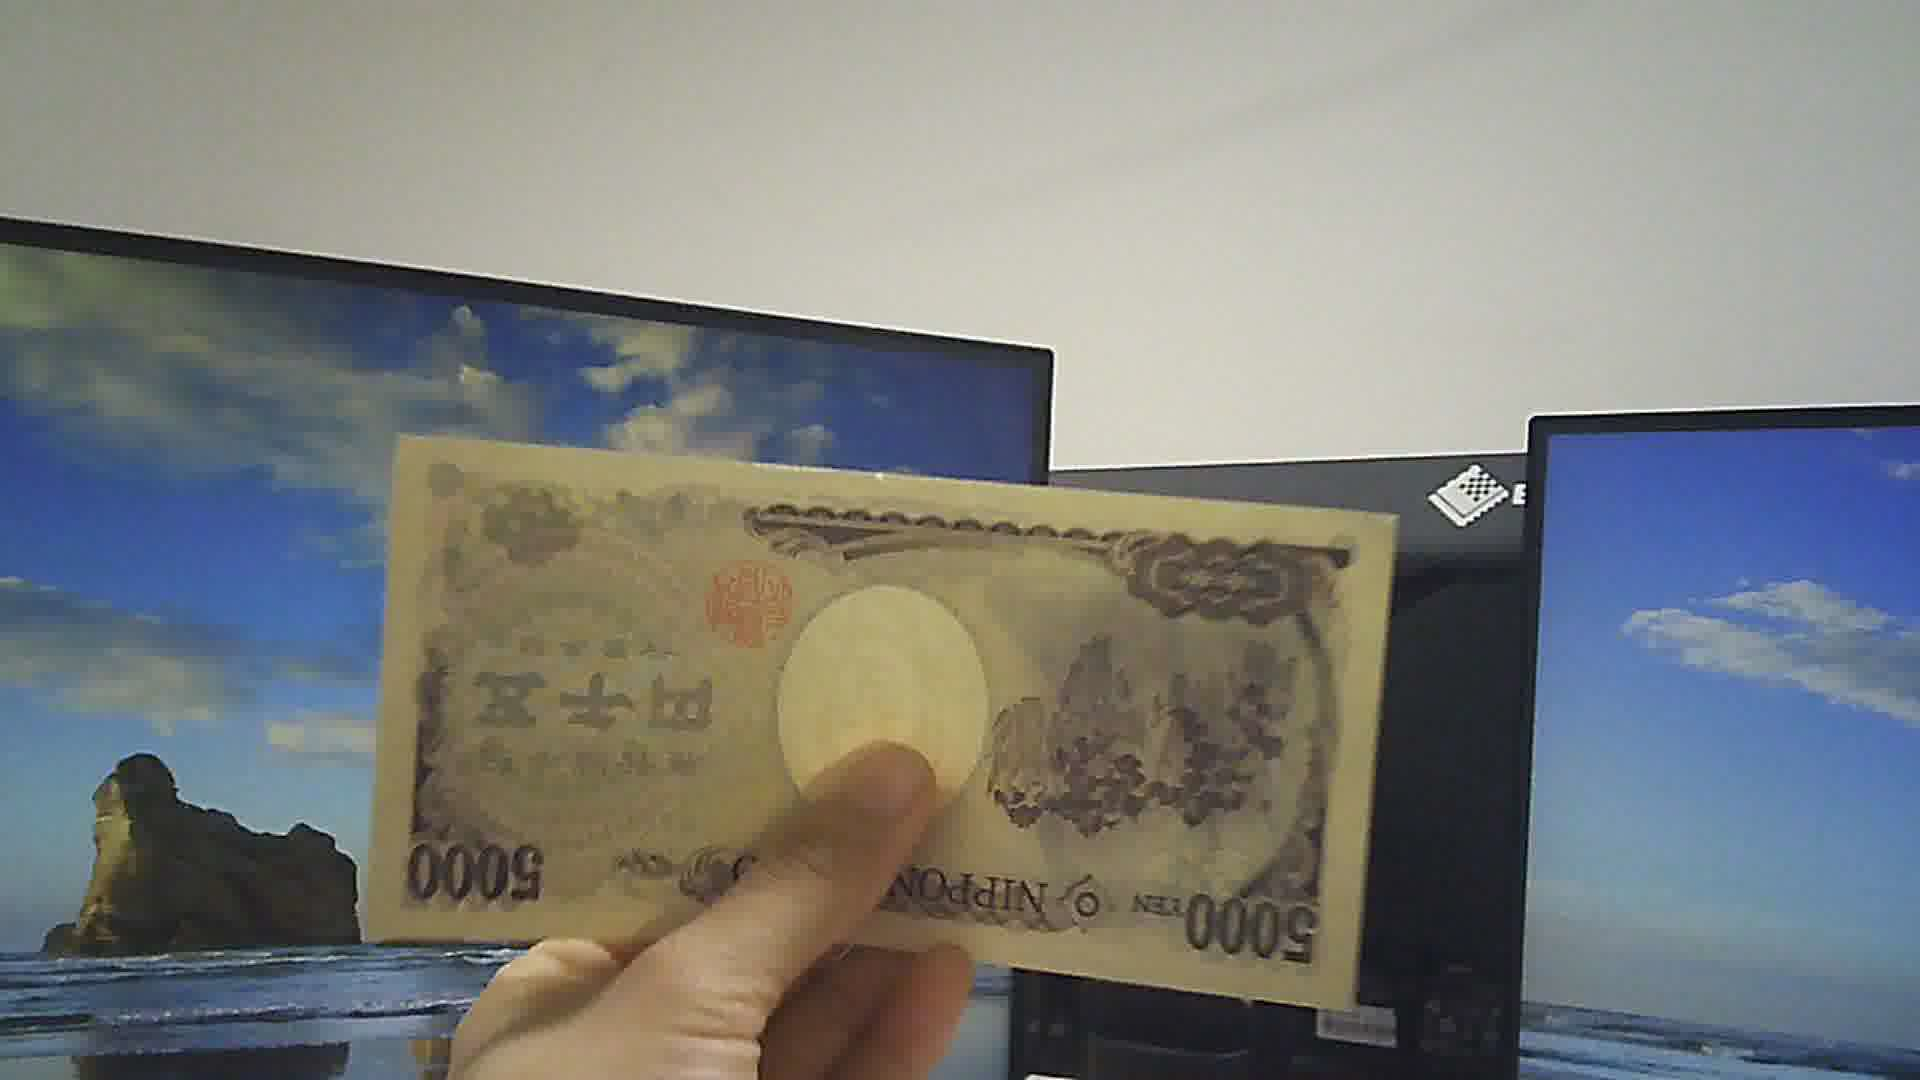5,000 Yen: (369, 421, 1364, 1014)
